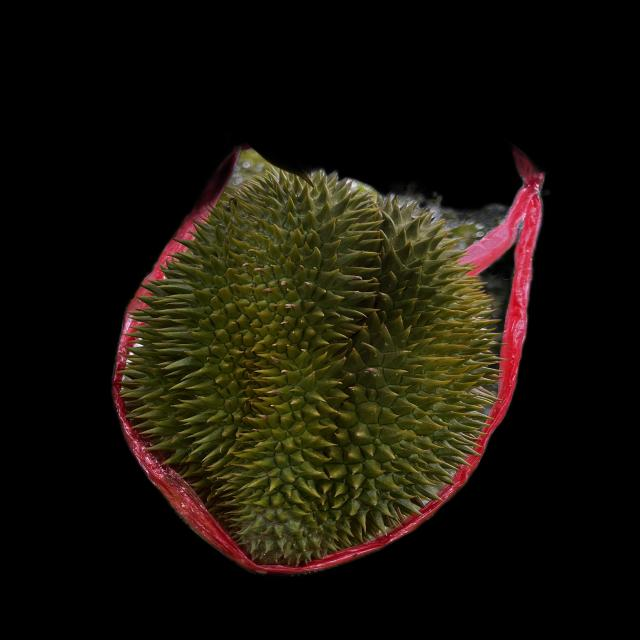immature: (124, 165, 494, 558)
